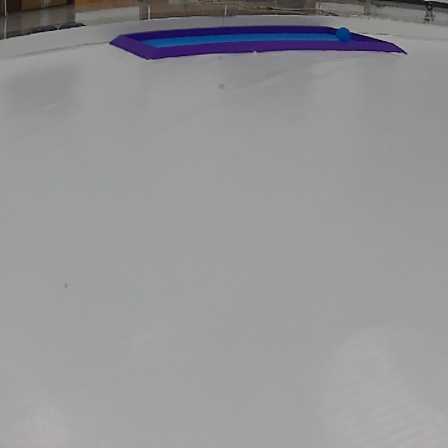blue: (337, 27, 352, 42)
blue_aim: (108, 24, 410, 61)
